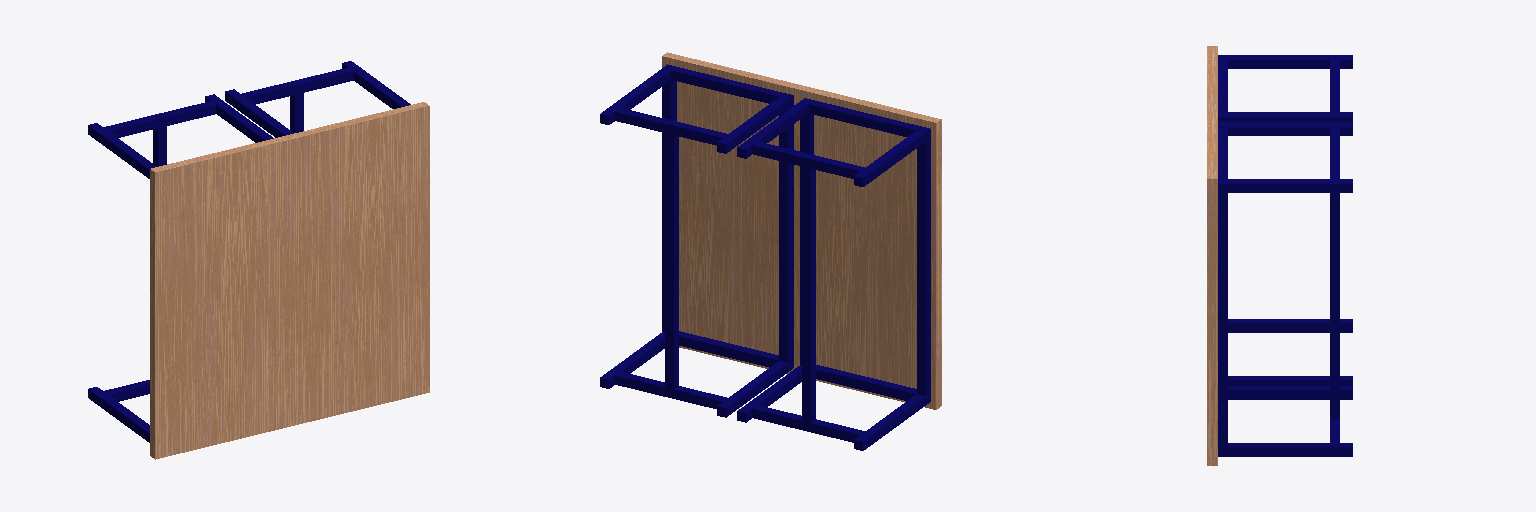
3 renders of one model, left to right at view 1: azimuth 30°, elevation 25°; view 2: azimuth 150°, elevation 25°; view 3: azimuth 270°, elevation 25°, orthographic.
Parts seen in each view (by area): view 1: Cube.001, Cube.004, Cube.011, Cube.002, Cube.006, Cube.009, Cube.008, Cube.014; view 2: Cube.001, Cube.010, Cube.003, Cube.004, Cube.011, Cube.009, Cube.002, Cube.006, Cube.012, Cube.008, Cube.014, Cube.007 (+1 smaller); view 3: Cube.001, Cube.010, Cube.011, Cube.013, Cube.009, Cube.002, Cube.014, Cube.006, Cube.012, Cube.008, Cube.007, Cube.003 (+1 smaller).
Boxes of the visible parts, box(x1,y1,x2,y2) form: Cube.001: box(150, 102, 429, 459); Cube.004: box(94, 99, 224, 405); Cube.011: box(232, 65, 361, 132); Cube.002: box(88, 123, 156, 178); Cube.006: box(88, 387, 149, 442); Cube.009: box(225, 89, 293, 137); Cube.008: box(205, 94, 273, 142); Cube.014: box(342, 61, 410, 108); Cube.001: box(662, 52, 941, 409); Cube.010: box(662, 64, 793, 370); Cube.003: box(800, 98, 930, 400); Cube.004: box(744, 139, 874, 444); Cube.011: box(607, 106, 736, 410); Cube.009: box(717, 96, 793, 153); Cube.002: box(854, 130, 930, 186); Cube.006: box(854, 393, 930, 450); Cube.012: box(717, 361, 792, 417); Cube.008: box(737, 102, 808, 158); Cube.014: box(600, 68, 670, 124); Cube.007: box(737, 366, 801, 422); Cube.001: box(1207, 46, 1217, 465); Cube.010: box(1218, 122, 1227, 455); Cube.011: box(1330, 127, 1339, 456); Cube.013: box(1218, 443, 1352, 456); Cube.009: box(1228, 122, 1352, 135); Cube.002: box(1228, 55, 1352, 68); Cube.014: box(1219, 179, 1352, 192); Cube.006: box(1228, 319, 1352, 332); Cube.012: box(1228, 386, 1352, 399); Cube.008: box(1218, 112, 1352, 121); Cube.007: box(1228, 376, 1352, 385); Cube.003: box(1218, 55, 1227, 121).
Size of the model in its own units: 1.52 by 1.52 by 0.7.
1 materials, 1 textured.